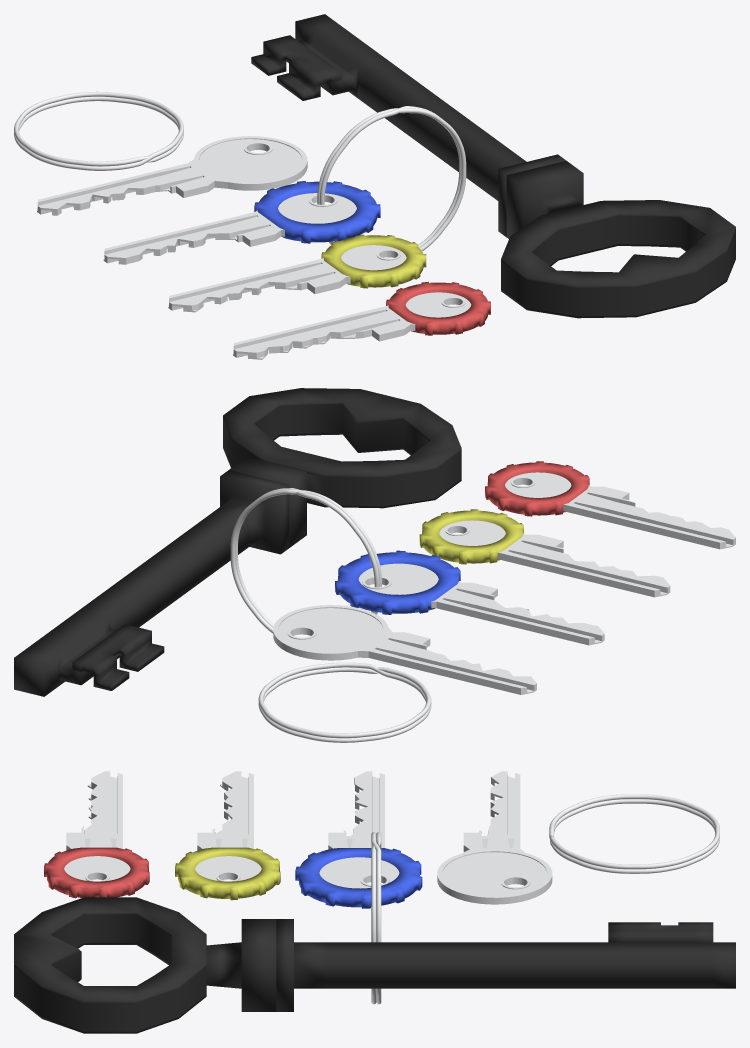
The model's file is key.glb.
3 views of the same model, one above another, from view 1: azimuth 30°, elevation 25°; view 2: azimuth 150°, elevation 25°; view 3: azimuth 270°, elevation 25° (orthographic).
Parts seen in each view (by area): view 1: Cube, Cylinder.016, Cylinder.017, Cylinder.013, Cylinder.011, Cylinder.018, CurveCircle.002, Cylinder.015, Cylinder.014, CurveCircle.003; view 2: Cube, Cylinder.016, Cylinder.017, Cylinder.013, Cylinder.011, Cylinder.018, CurveCircle.002, Cylinder.014, Cylinder.015, CurveCircle.003; view 3: Cube, Cylinder.016, Cylinder.017, Cylinder.018, Cylinder.013, Cylinder.011, CurveCircle.002, Cylinder.015, Cylinder.014, CurveCircle.003.
Part boxes in pixels (bbox=[...]): Cube: bbox=[251, 14, 735, 318]; Cylinder.016: bbox=[37, 136, 307, 215]; Cylinder.017: bbox=[103, 193, 356, 264]; Cylinder.013: bbox=[233, 292, 471, 359]; Cylinder.011: bbox=[168, 245, 406, 312]; Cylinder.018: bbox=[254, 181, 380, 243]; CurveCircle.002: bbox=[14, 91, 183, 170]; Cylinder.015: bbox=[321, 234, 426, 288]; Cylinder.014: bbox=[386, 281, 490, 335]; CurveCircle.003: bbox=[317, 106, 466, 258]; Cube: bbox=[14, 388, 461, 696]; Cylinder.016: bbox=[273, 605, 536, 694]; Cylinder.017: bbox=[358, 563, 604, 645]; Cylinder.013: bbox=[505, 472, 735, 549]; Cylinder.011: bbox=[439, 520, 670, 597]; Cylinder.018: bbox=[335, 550, 460, 614]; CurveCircle.002: bbox=[258, 662, 431, 742]; Cylinder.014: bbox=[485, 461, 589, 516]; Cylinder.015: bbox=[419, 509, 523, 564]; CurveCircle.003: bbox=[230, 488, 381, 633]; Cube: bbox=[14, 897, 735, 1033]; Cylinder.016: bbox=[437, 771, 552, 904]; Cylinder.017: bbox=[319, 771, 399, 888]; Cylinder.018: bbox=[295, 848, 422, 908]; Cylinder.013: bbox=[64, 771, 130, 881]; Cylinder.011: bbox=[195, 771, 261, 881]; CurveCircle.002: bbox=[549, 794, 719, 873]; Cylinder.015: bbox=[175, 847, 280, 900]; Cylinder.014: bbox=[44, 847, 149, 898]; CurveCircle.003: bbox=[371, 832, 381, 1004].
Bounding box in the file's own units: 13.12 × 3.91 × 16.53.
